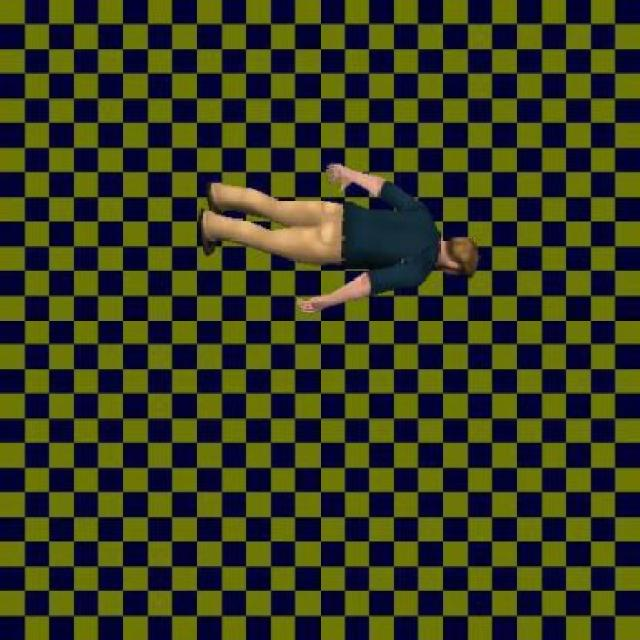Person: (192, 160, 480, 315)
